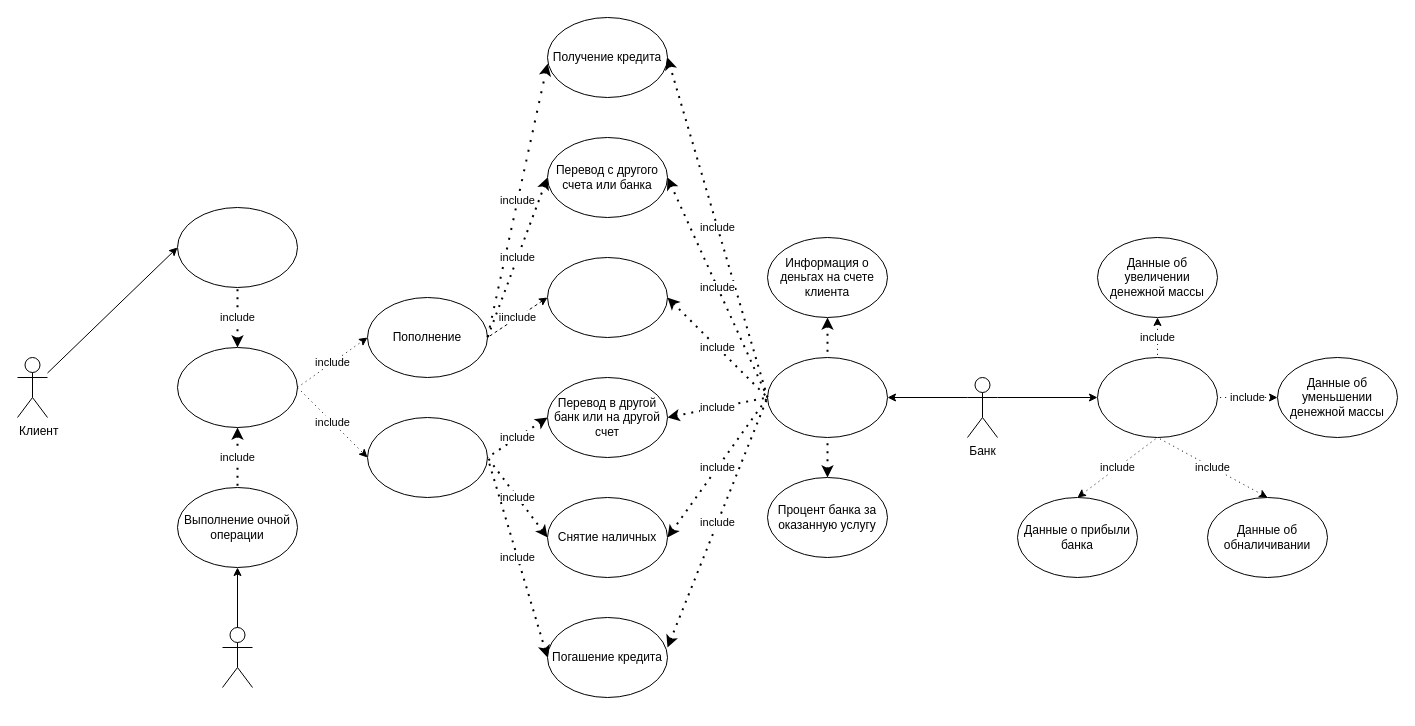
Image size: 1415x726. Some labels were removed from this diagram. The centre of each missing label's shape, as x and y in pixels:
Выполнение дистанционной операции: [237,247]
Зачисление наличных: [607,297]
Кассир: [237,657]
Оказание услуги: [827,397]
Составление отчета: [1157,397]
Уменьшение: [427,457]
Услуга: [237,387]
